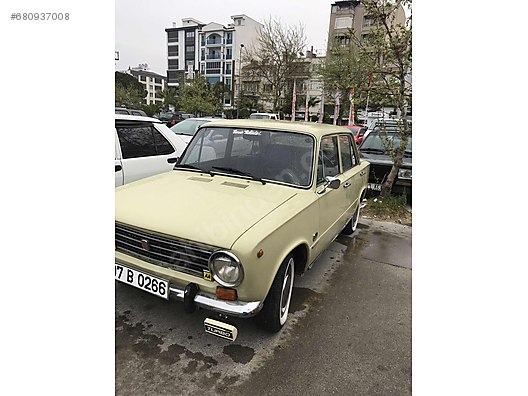murat: (97, 116, 374, 357)
